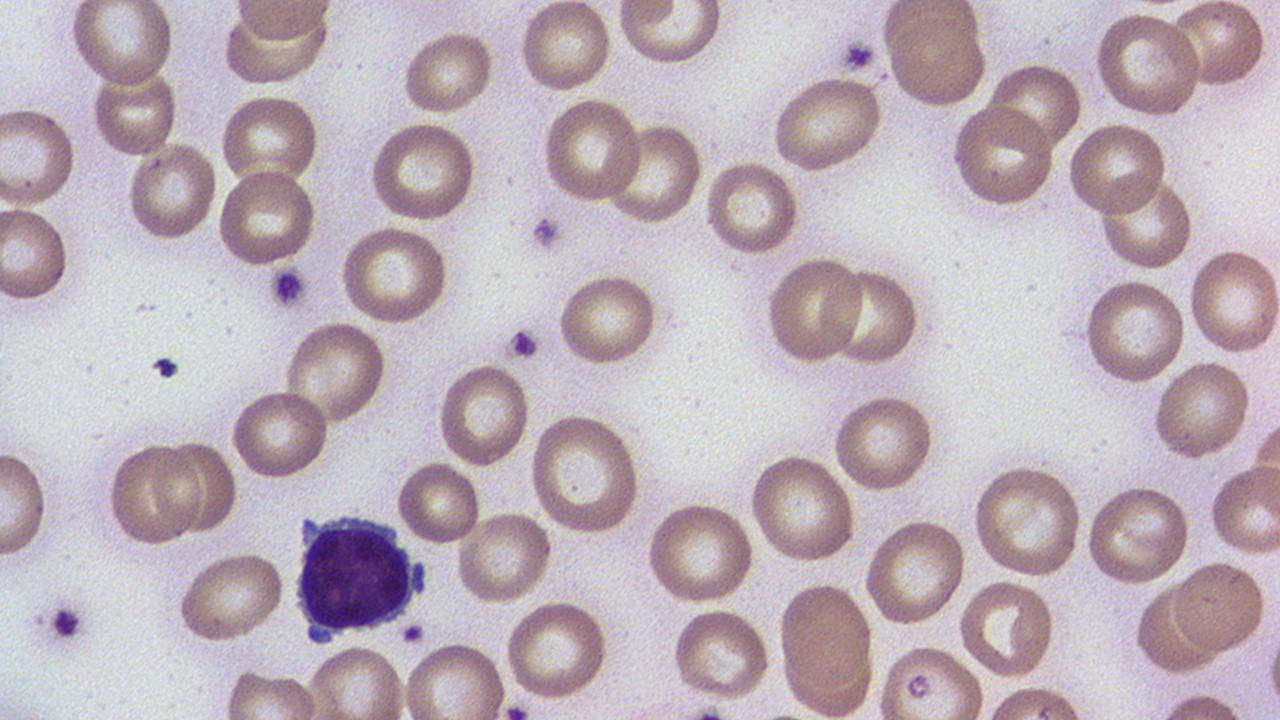Platelets: (270, 264, 308, 310), (838, 36, 880, 75), (506, 326, 541, 362), (686, 705, 729, 719), (501, 704, 532, 720)
RBC: (527, 410, 643, 536), (774, 579, 877, 716), (972, 460, 1084, 580), (1091, 9, 1203, 120), (748, 451, 857, 565), (881, 0, 990, 110), (862, 516, 968, 627), (644, 500, 754, 606), (1081, 276, 1185, 388), (366, 120, 479, 223), (337, 224, 451, 326), (768, 75, 886, 173), (282, 319, 390, 426), (540, 95, 642, 207), (1084, 483, 1192, 587), (950, 103, 1055, 209), (501, 599, 609, 702), (763, 255, 862, 367), (830, 392, 936, 494), (604, 120, 704, 228), (956, 576, 1058, 679), (1151, 359, 1253, 462), (175, 550, 286, 644), (217, 91, 320, 192), (434, 361, 530, 469), (216, 169, 320, 268), (1187, 247, 1279, 358), (1065, 122, 1167, 220), (824, 263, 920, 367), (556, 271, 660, 367), (1095, 173, 1195, 271), (66, 1, 176, 90), (668, 606, 772, 700), (1171, 558, 1269, 656), (702, 158, 799, 257), (454, 510, 554, 606), (106, 443, 198, 547), (125, 140, 217, 244), (982, 60, 1082, 154), (227, 389, 331, 479), (517, 0, 612, 96), (873, 640, 987, 719), (401, 637, 510, 718), (1170, 0, 1268, 90), (401, 28, 496, 116), (90, 64, 178, 158), (1134, 578, 1216, 677), (0, 104, 77, 208), (393, 460, 483, 548), (304, 642, 408, 718), (161, 438, 240, 536), (618, 1, 725, 68), (0, 203, 70, 304), (1208, 461, 1280, 558), (1, 448, 50, 562), (232, 0, 335, 44)
WBC: (288, 509, 424, 643)
